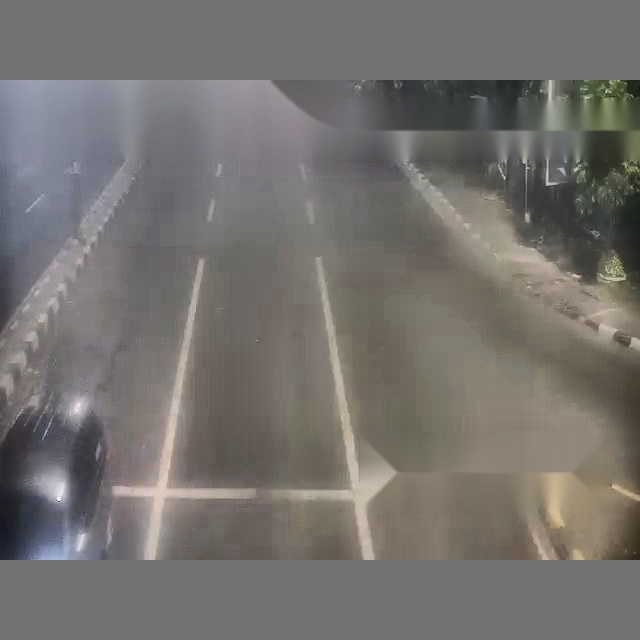Truk: (186, 122, 639, 558)
